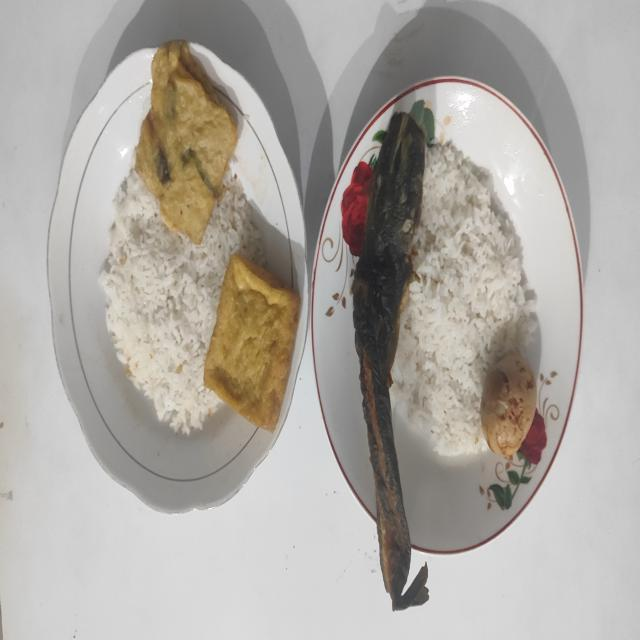nasi_putih: (390, 141, 536, 455), (100, 169, 262, 434)
tahu_goreng: (204, 254, 300, 432)
